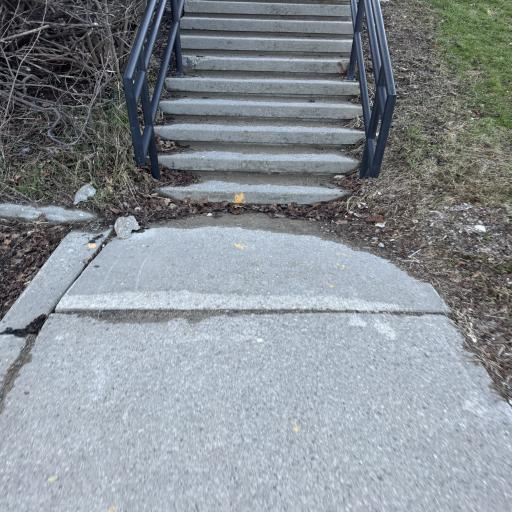Stairs: (155, 0, 364, 204)
